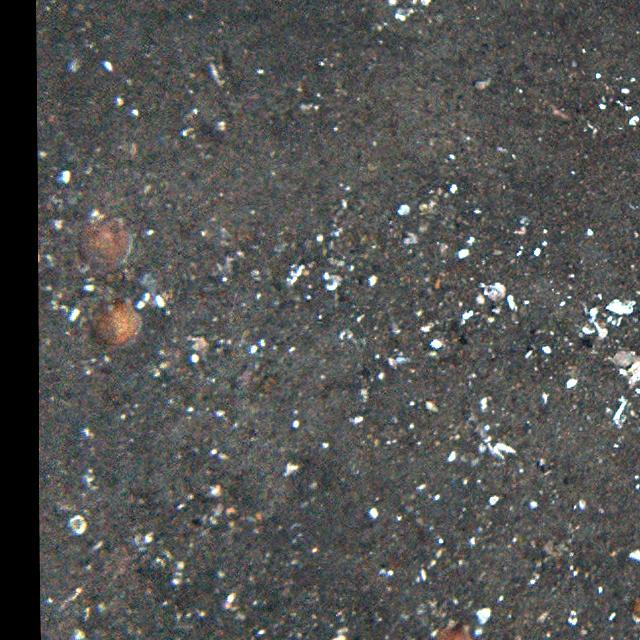scallop: (76, 218, 132, 272), (91, 301, 145, 348)
